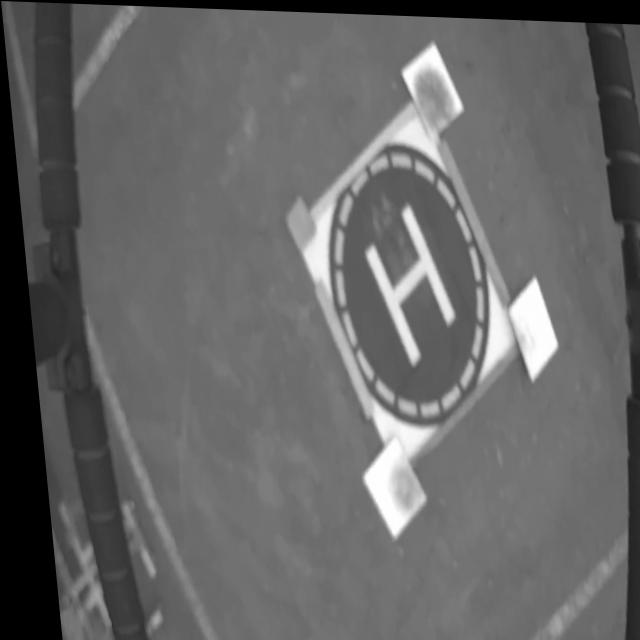Helipad: (357, 196, 451, 366)
